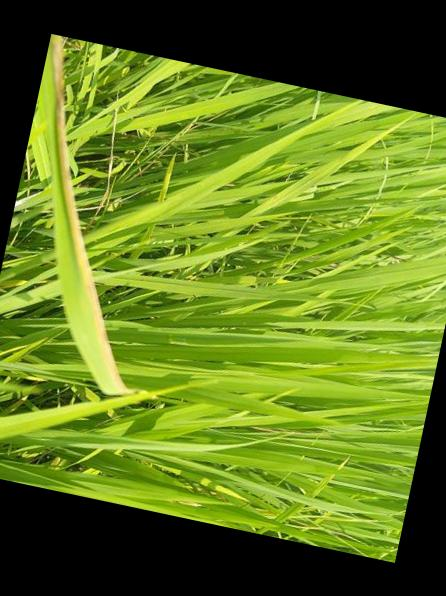Leaf Blight: (51, 34, 128, 395)
